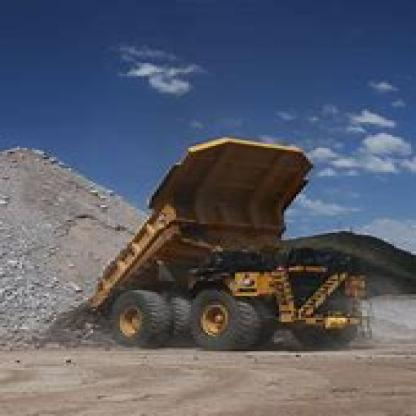dump_truck: (71, 128, 389, 351)
